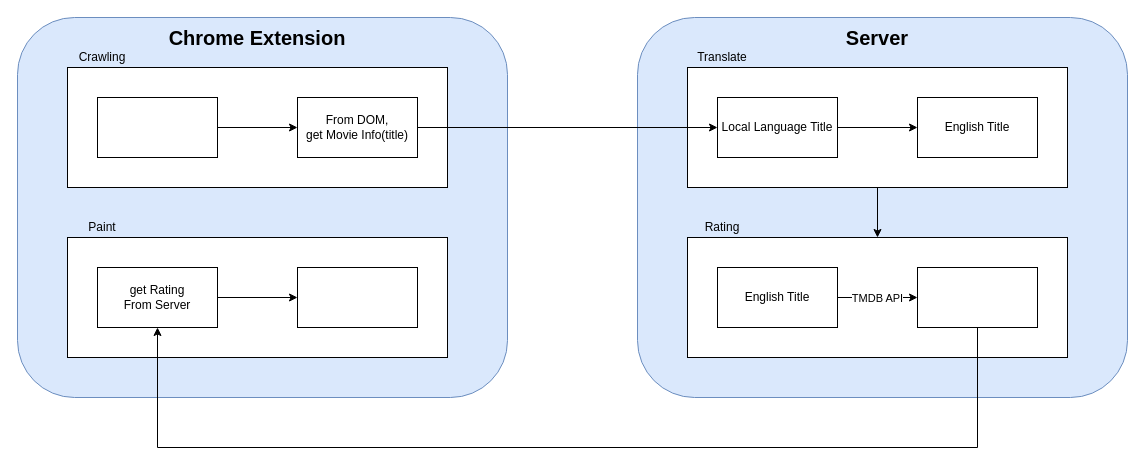
The diagram is 1145 pixels wide and 473 high, and some of its shapes have lost their labels. Here are the shapes that lost their labels. From the top down, the box of each, then its label:
(96, 96, 218, 158): mouse hover on movie component
(296, 266, 418, 328): Paint Rating on Extension
(916, 266, 1038, 328): Ratings
